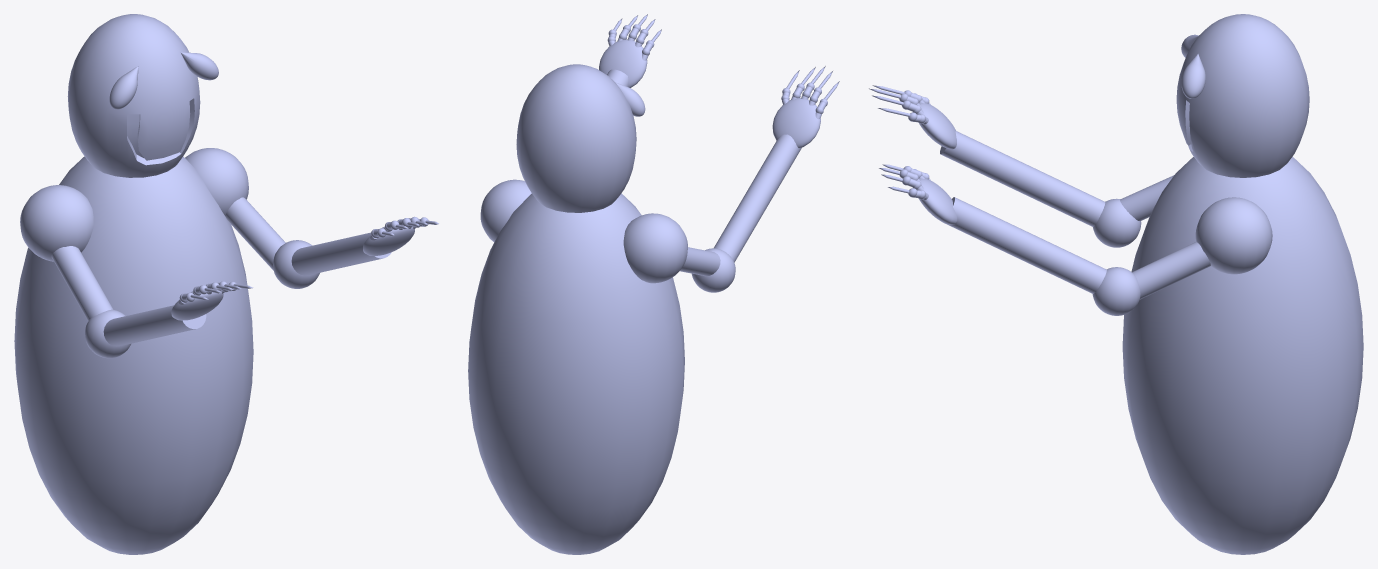
The model's file is Ghost_Depressed.FBX.
The picture shows the model from 3 angles, left to right: view 1: azimuth 30°, elevation 25°; view 2: azimuth 150°, elevation 25°; view 3: azimuth 270°, elevation 25°; orthographic projection. The views are drawn at different scales.
Parts seen in each view (by area): view 1: Ghost_Depressed; view 2: Ghost_Depressed; view 3: Ghost_Depressed.
Part boxes in pixels (x1,y1,x2,y2): Ghost_Depressed: (14, 14, 438, 554); Ghost_Depressed: (468, 14, 839, 554); Ghost_Depressed: (869, 14, 1363, 554).
Size of what is drawn, in the model's own units: 15.27 by 26.97 by 31.87.
